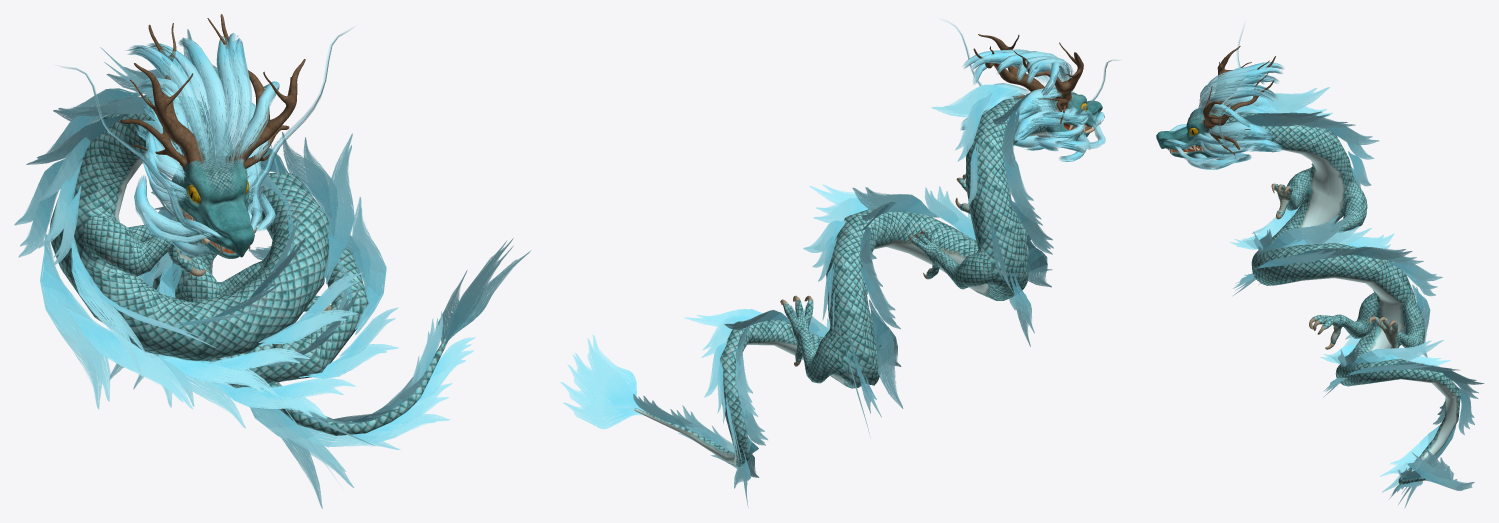
The model's file is dragon.gltf.
3 renders of one model, left to right at view 1: azimuth 30°, elevation 25°; view 2: azimuth 150°, elevation 25°; view 3: azimuth 270°, elevation 25°, orthographic. The views are drawn at different scales.
Parts seen in each view (by area): view 1: Body_low; view 2: Body_low; view 3: Body_low.
Boxes of the visible parts, bbox=[...] form: Body_low: bbox=[14, 14, 531, 508]; Body_low: bbox=[560, 18, 1120, 507]; Body_low: bbox=[1156, 23, 1484, 508].
Bounding box in the file's own units: 123 × 120 × 94.37.
5 materials, 5 textured.
